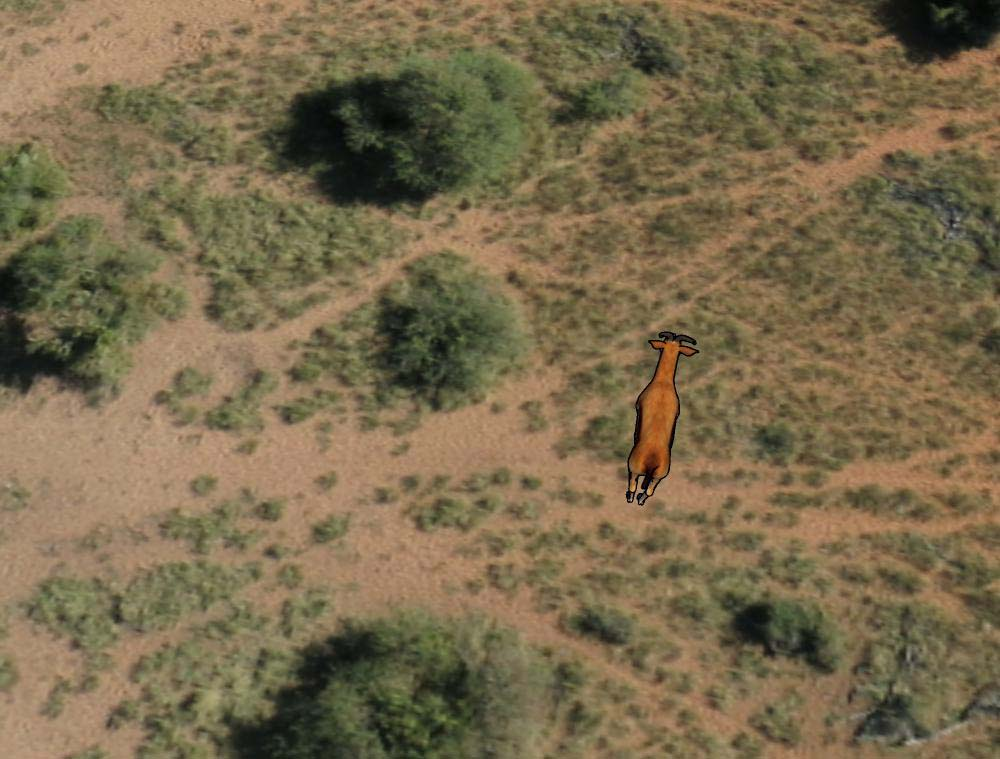springbok: (621, 330, 698, 510)
